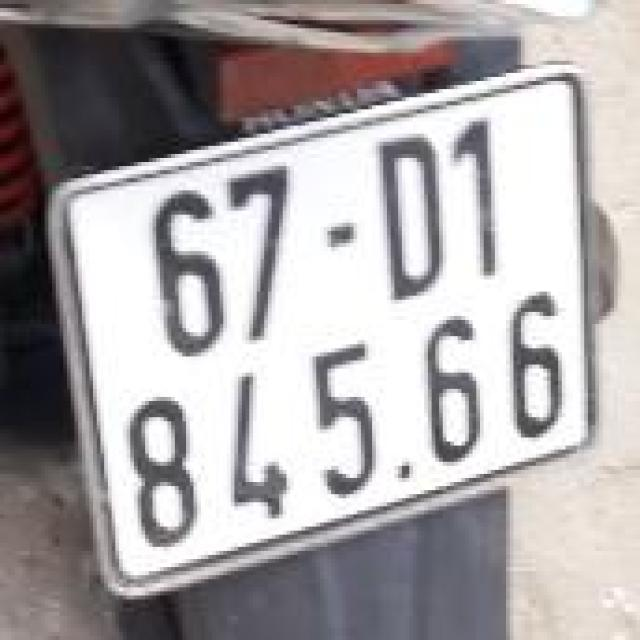1: (452, 112, 512, 286)
4: (215, 368, 298, 534)
5: (303, 342, 404, 512)
6: (147, 188, 229, 362), (419, 310, 493, 484), (501, 284, 578, 442)
7: (223, 162, 309, 348)
8: (113, 389, 203, 563)
D: (359, 123, 452, 310)
